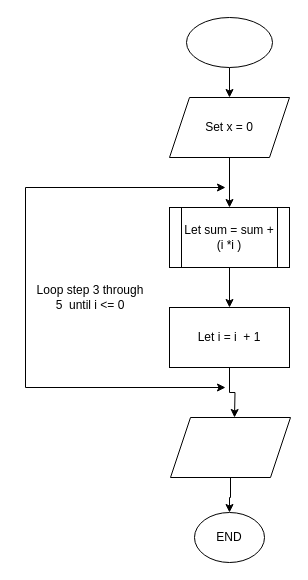
Image size: 308x580. Some labels were removed from this diagram. Each missing label, with the centre of its shape:
PRINT sum: point (230, 447)
START: point (229, 42)
